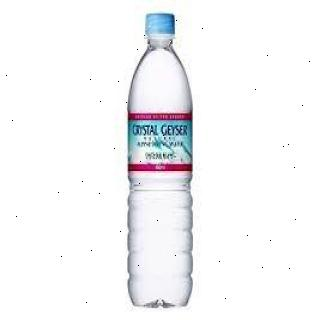Plastic-bottle: (126, 11, 198, 316)
